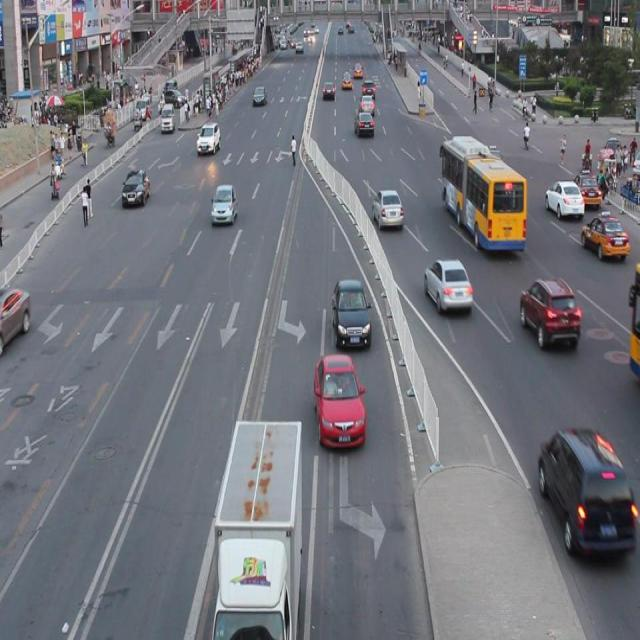bus: (211, 417, 302, 640)
car: (538, 425, 630, 553), (314, 351, 366, 448), (520, 277, 580, 349), (332, 278, 371, 350), (424, 256, 472, 308), (579, 210, 628, 259), (1, 286, 31, 346), (545, 179, 583, 217), (372, 187, 403, 229), (121, 167, 150, 209), (211, 183, 237, 225), (571, 173, 600, 205)
van: (442, 138, 525, 250)
